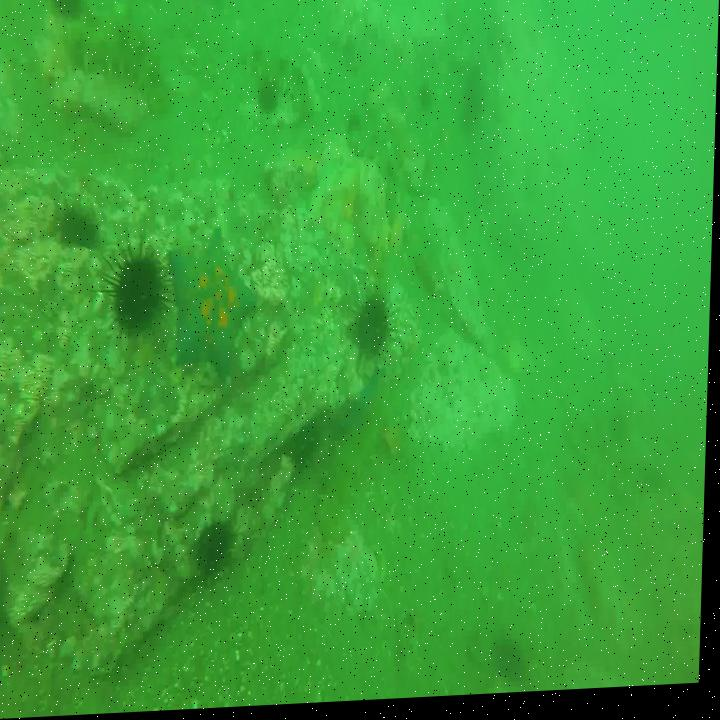echinus: (109, 246, 170, 339), (354, 296, 393, 372), (55, 207, 99, 259), (200, 528, 238, 587), (296, 421, 324, 474), (258, 78, 283, 122)
holothurian: (322, 394, 384, 548), (73, 19, 171, 112), (567, 416, 632, 509), (347, 124, 398, 192), (280, 59, 315, 124)
starfish: (168, 219, 261, 382)
